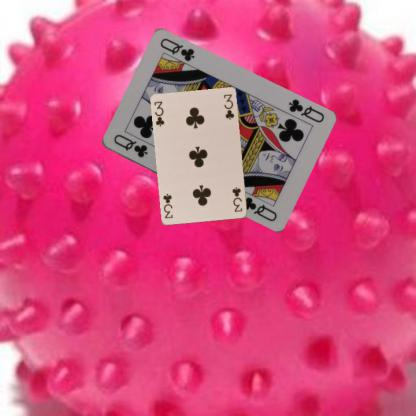3c: (229, 184, 244, 214), (152, 98, 166, 127)
Qc: (286, 96, 326, 124), (110, 132, 148, 159)
